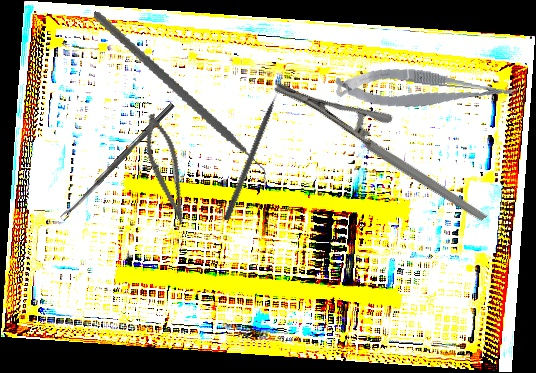Chopper: (67, 11, 292, 191)
Micro Scissor: (333, 59, 519, 123), (135, 110, 199, 228)
Needle Holder: (271, 32, 488, 273)
Pusher: (222, 80, 287, 222)
Surgical Spoon: (58, 101, 176, 222)
